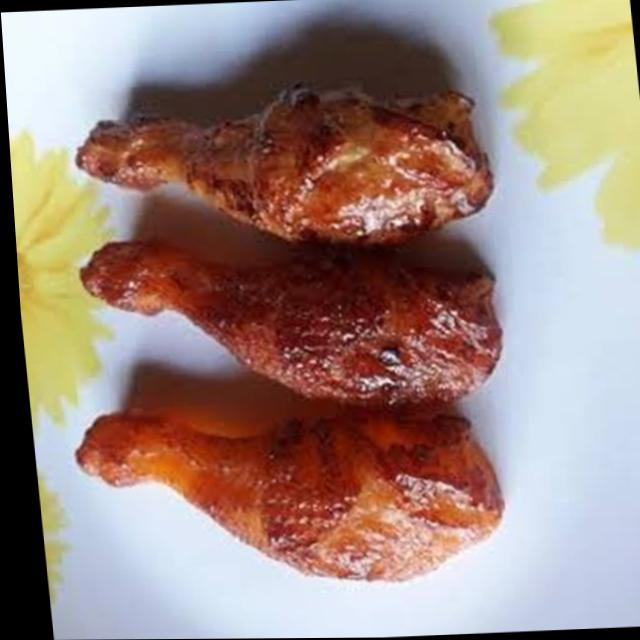CHICKEN FRY: (72, 83, 506, 585)
